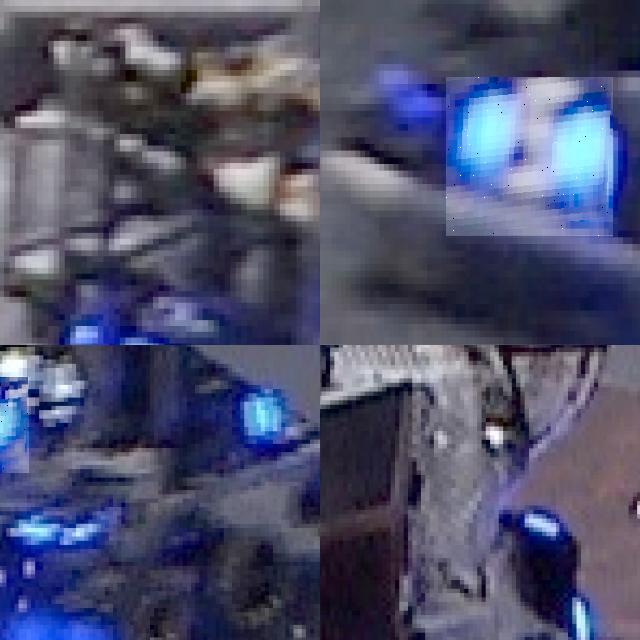B2: (0, 376, 29, 473)
B5: (446, 78, 613, 238)
